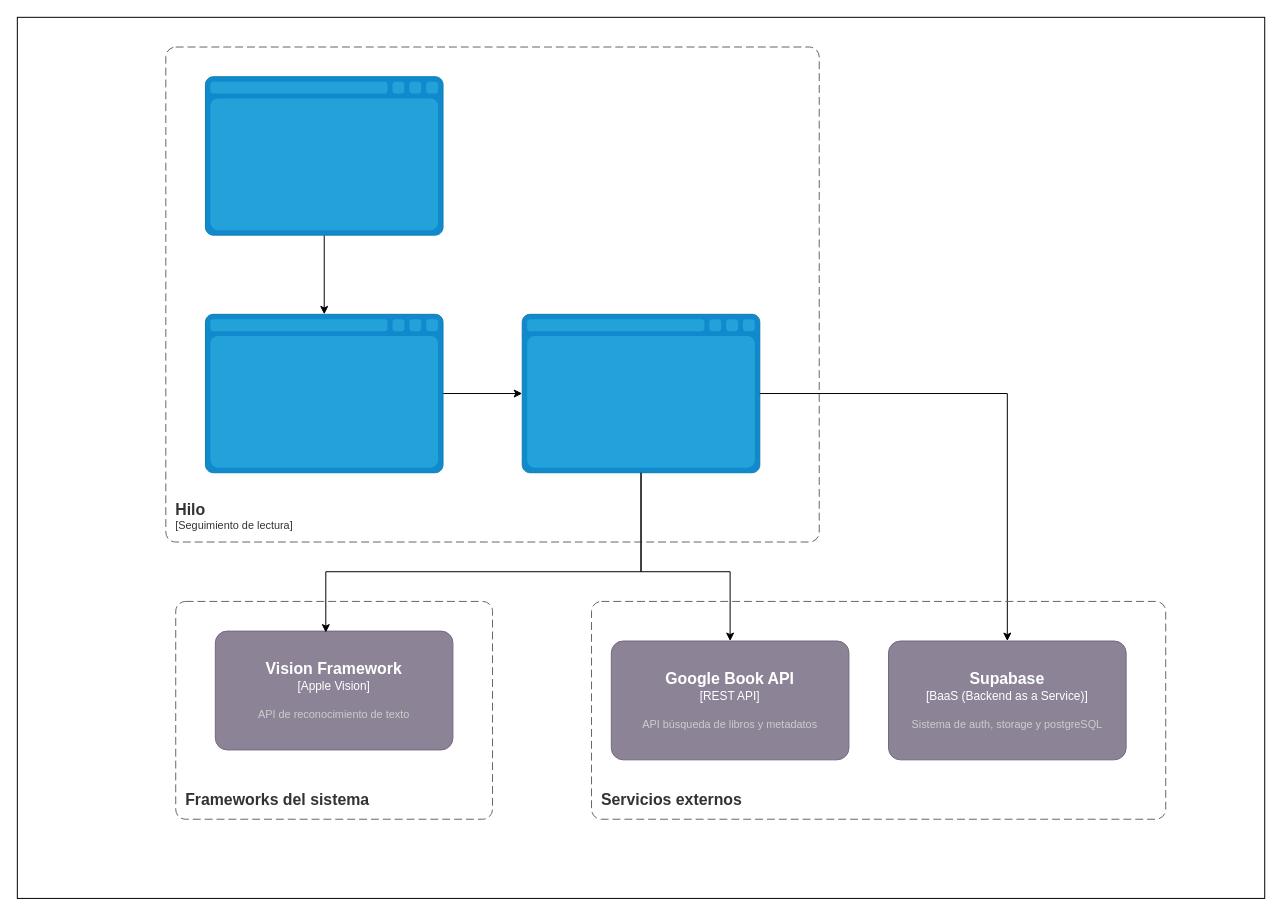
Image size: 1282x916. Some labels were removed from this diagram. The centre of each missing label's shape, as x and y in pixels:
"Services [Container: Swift] Gestiona el acceso de datos y servicios externos" belongs at point (640, 393).
"ViewModels [Container: Swift] Gestiona el estado y lógica de presentación" belongs at point (323, 393).
"Views [Container: SwiftUI] Encargados de dibujar la UI" belongs at point (323, 155).
